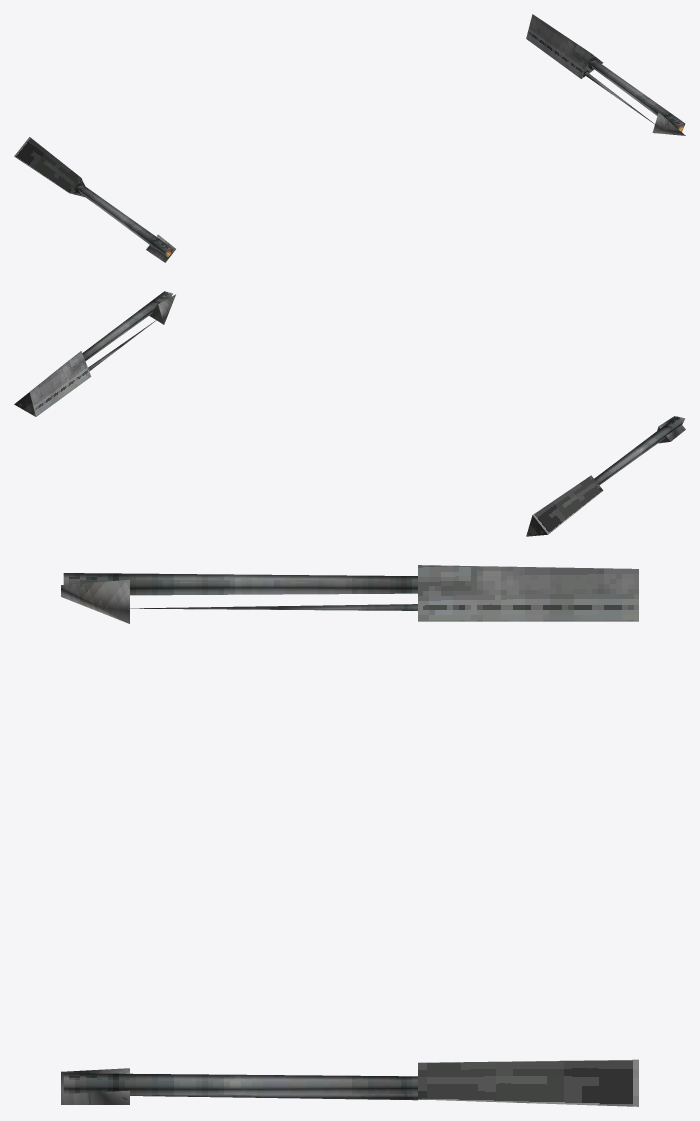
Rendered from hutt_fighter_medium_weapon2_s06_l3.fbx.
The picture shows the model from 3 angles, top to bottom: view 1: azimuth 30°, elevation 25°; view 2: azimuth 150°, elevation 25°; view 3: azimuth 270°, elevation 25°; orthographic projection. The views are drawn at different scales.
Visible parts, largest first — view 1: mesh_node; view 2: mesh_node; view 3: mesh_node.
Part boxes in pixels (x1=…): mesh_node: x1=14, y1=14, x2=685, y2=262; mesh_node: x1=14, y1=291, x2=685, y2=536; mesh_node: x1=61, y1=565, x2=638, y2=1106.
Size of the model in its own units: 13.31 by 0.5782 by 6.24.
